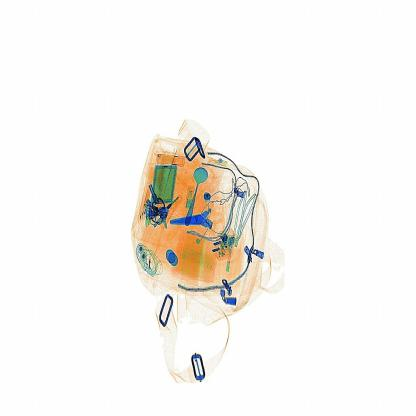gun: (159, 197, 234, 236)
